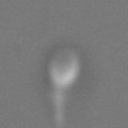abnormal: (46, 86, 74, 128)
